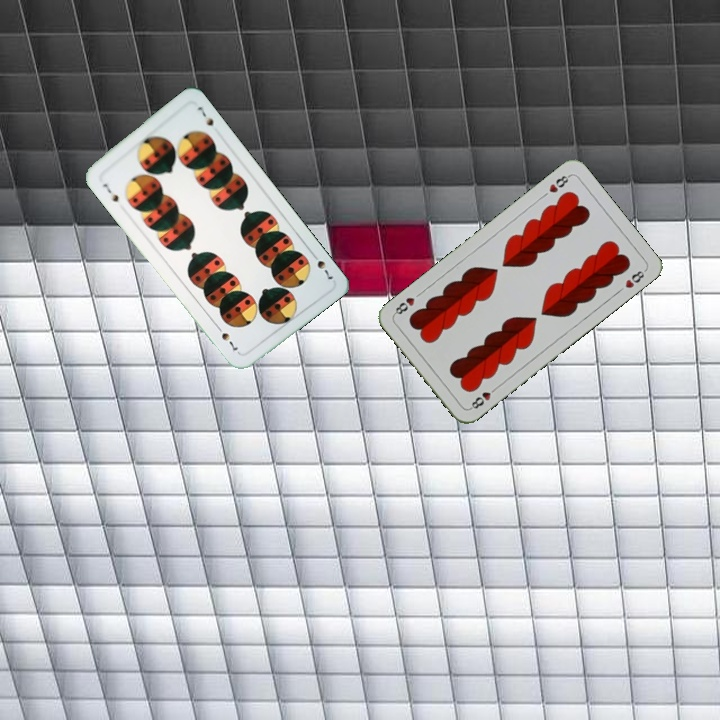H8: (466, 382, 500, 412), (545, 171, 573, 195)
S7: (307, 248, 336, 282), (99, 179, 121, 205)
